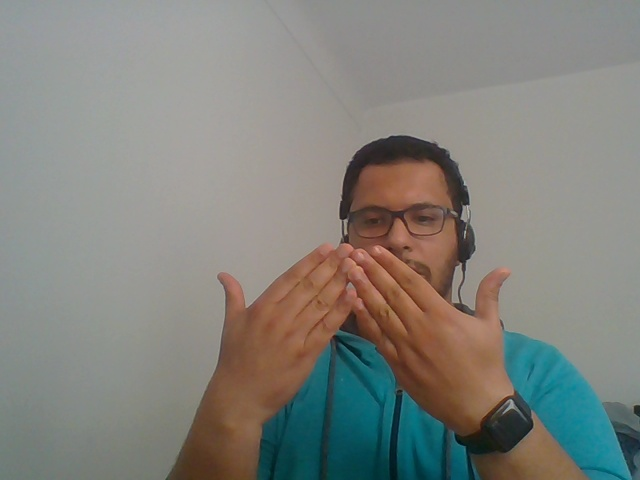thanks: (156, 230, 601, 480)
